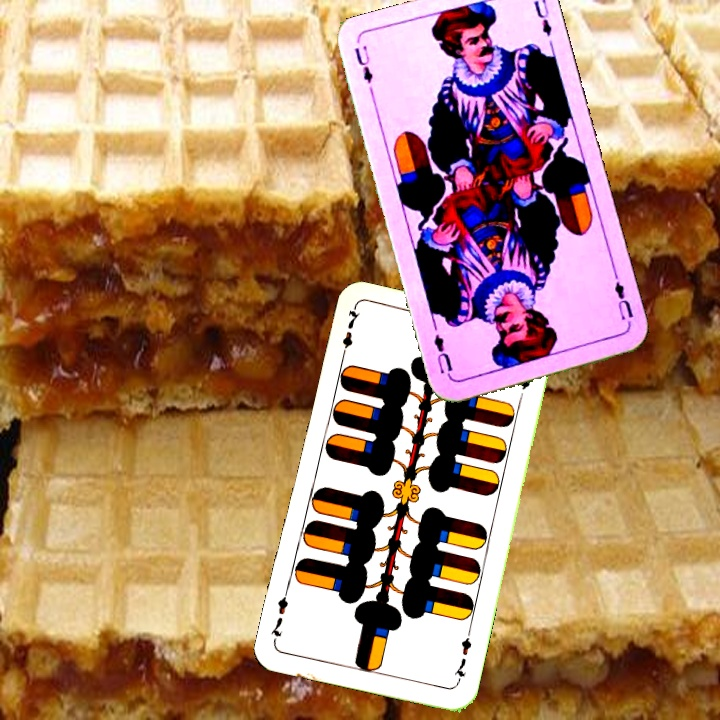E7: (449, 627, 475, 686), (337, 305, 362, 363)
EU: (610, 270, 636, 322), (350, 41, 376, 86)
